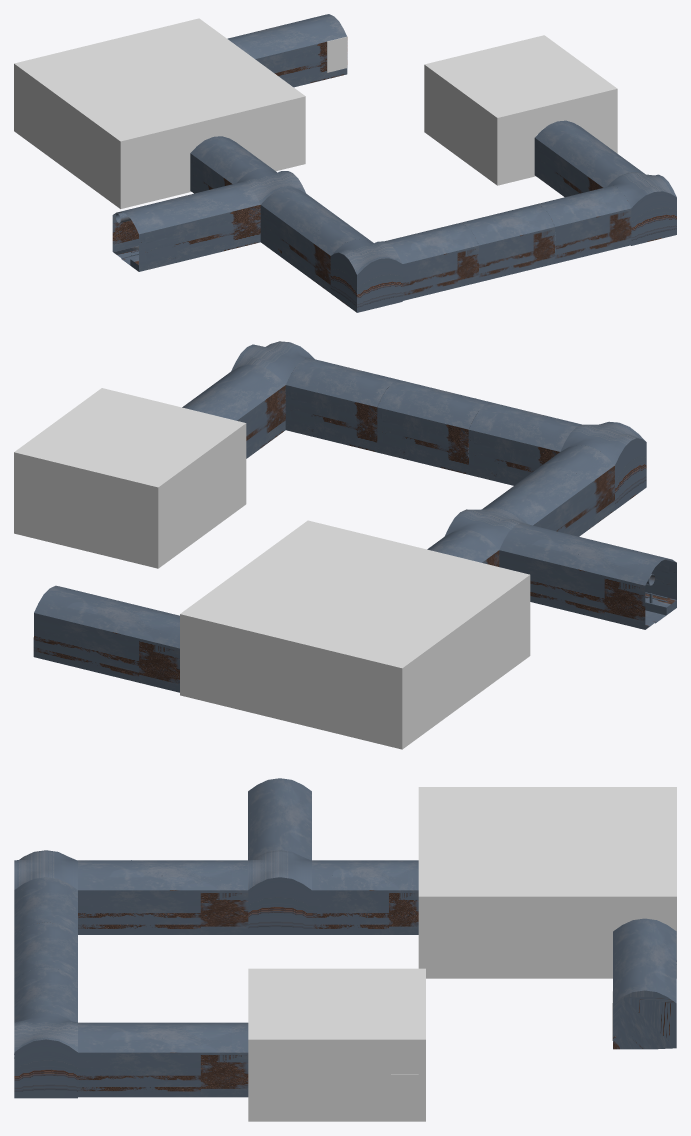
Rendered from room 1 demo.fbx.
The picture shows the model from 3 angles, top to bottom: view 1: azimuth 30°, elevation 25°; view 2: azimuth 150°, elevation 25°; view 3: azimuth 270°, elevation 25°; orthographic projection. The views are drawn at different scales.
Parts seen in each view (by area): view 1: Cube, Cube.003, base, base.001, base.007, base.005, base.002, base.010, base.004, base.006, base.009, base.003 (+2 smaller); view 2: Cube, Cube.003, base, base.010, base.005, base.004, base.001, base.002, base.007, base.006, base.008, base.009 (+1 smaller); view 3: Cube, Cube.003, base.007, base.001, base.010, base.003, base.009, base.008, base, base.002, base.004, base.005 (+2 smaller).
Part boxes in pixels (x1,y1,x2,y2): Cube: (14, 18, 305, 208); Cube.003: (424, 35, 617, 185); base: (112, 182, 260, 271); base.001: (260, 187, 373, 292); base.007: (534, 120, 644, 196); base.005: (535, 185, 631, 263); base.002: (385, 223, 478, 300); base.010: (227, 14, 347, 87); base.004: (460, 204, 554, 282); base.006: (330, 239, 402, 312); base.009: (607, 172, 676, 245); base.003: (190, 136, 276, 193); Cube: (180, 520, 530, 749); Cube.003: (14, 388, 246, 568); base: (499, 523, 676, 629); base.010: (33, 585, 179, 692); base.005: (285, 357, 398, 452); base.004: (377, 380, 491, 474); base.001: (482, 445, 614, 536); base.002: (469, 402, 581, 485); base.007: (182, 364, 285, 458); base.006: (560, 421, 646, 510); base.008: (444, 506, 527, 549); base.009: (231, 341, 314, 384); Cube: (418, 787, 676, 978); Cube.003: (248, 968, 425, 1121); base.007: (78, 1022, 248, 1097); base.001: (78, 860, 248, 934); base.010: (613, 918, 676, 1049); base.003: (312, 860, 418, 934); base.009: (14, 1012, 77, 1098); base.008: (248, 850, 311, 934); base: (248, 778, 311, 860); base.002: (14, 877, 77, 968); base.004: (14, 922, 77, 979); base.005: (14, 967, 77, 1054).
Size of the model in its own units: 102 by 13.76 by 101.
